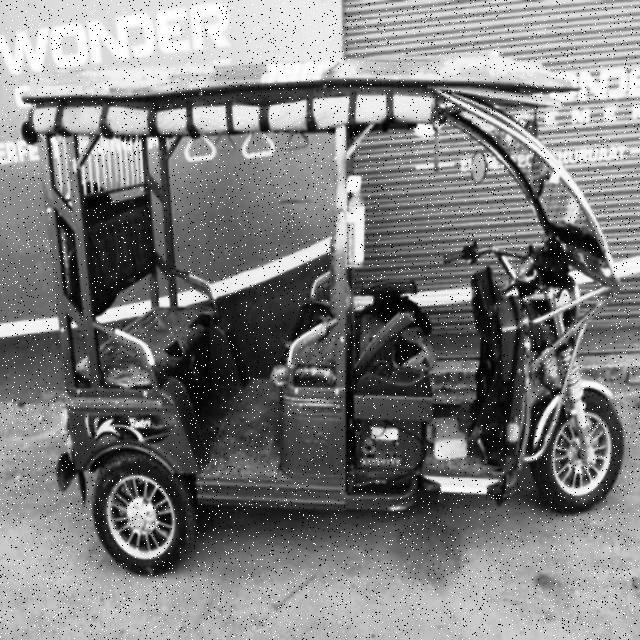Toto: (16, 54, 632, 574)
